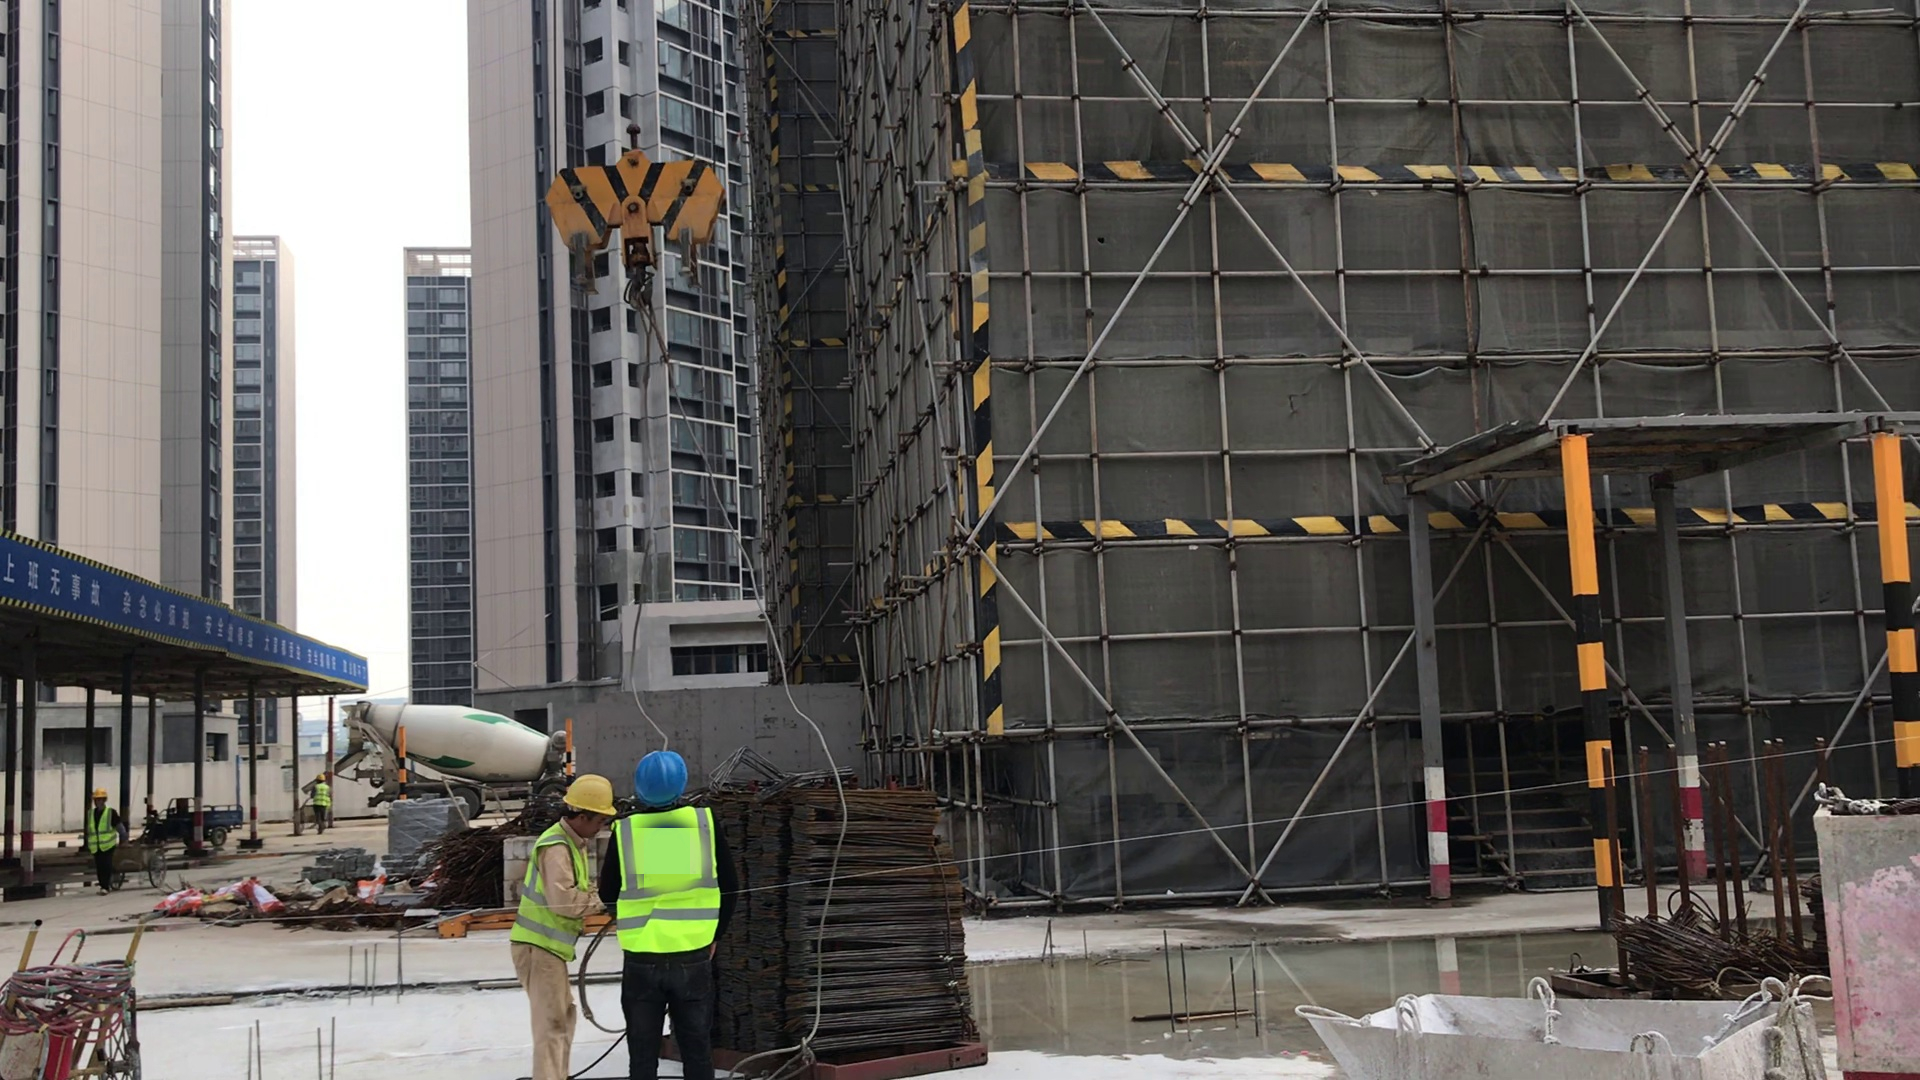helmet: (625, 749, 696, 805), (560, 776, 618, 820), (91, 790, 109, 801), (316, 771, 326, 782)
person: (606, 748, 752, 1080), (500, 767, 622, 1080), (78, 789, 129, 898), (305, 772, 334, 835)
vest: (609, 816, 720, 951), (504, 826, 592, 963), (84, 807, 119, 853), (312, 785, 330, 807)
